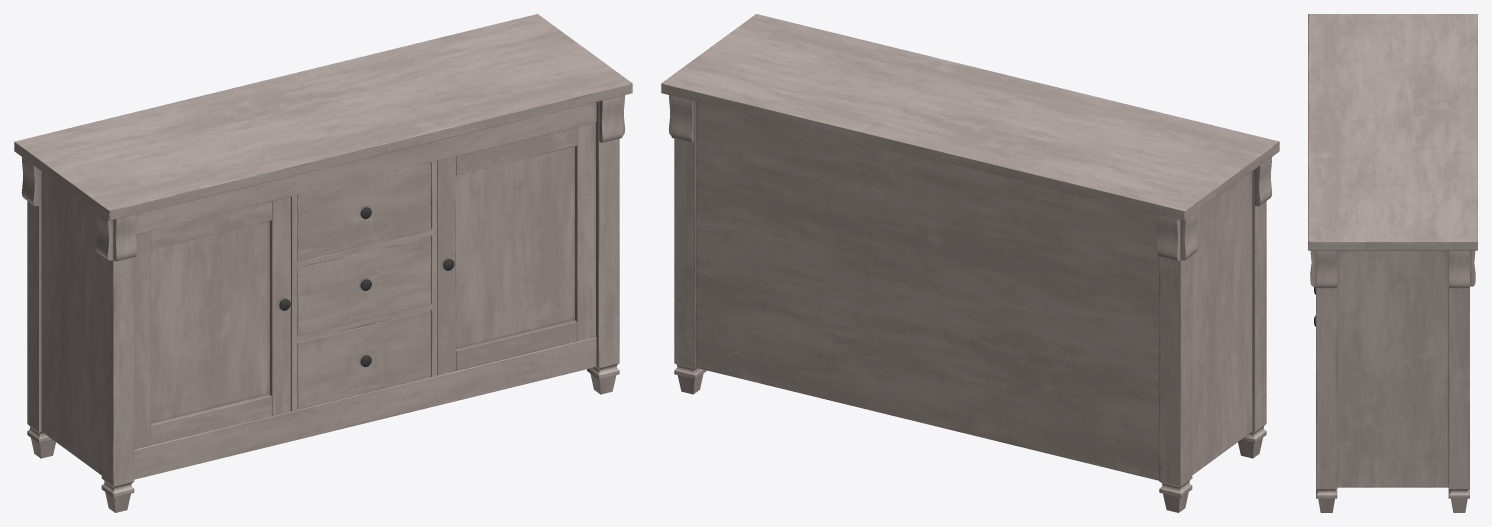
3 views of the same model, side by side, from view 1: azimuth 30°, elevation 25°; view 2: azimuth 150°, elevation 25°; view 3: azimuth 270°, elevation 25° (orthographic). The views are drawn at different scales.
Parts seen in each view (by area): view 1: wood; view 2: wood; view 3: wood.
Boxes of the visible parts, <box> form: wood: <box>14,14,632,512</box>; wood: <box>661,14,1279,512</box>; wood: <box>1308,14,1477,512</box>.
Bounding box in the file's own units: 1.43 × 0.81 × 0.45.
Materials: 2 (1 with a texture image).
